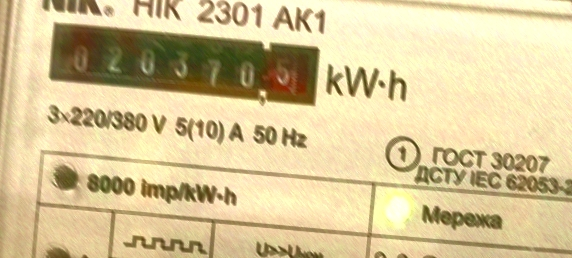0: (236, 58, 257, 90), (70, 41, 90, 72), (138, 45, 156, 74)
2: (104, 42, 125, 75)
3: (171, 47, 190, 78)
5: (273, 54, 293, 87)
7: (203, 56, 221, 87)
screen: (40, 15, 328, 115)
